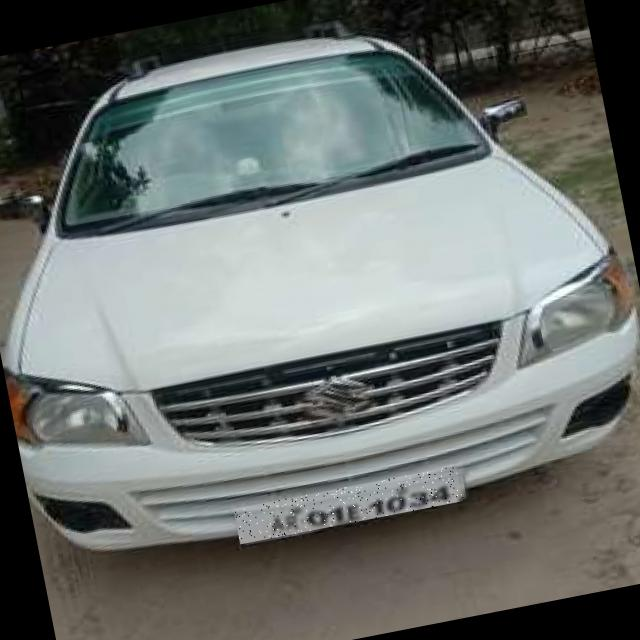Plate: (235, 467, 466, 546)
